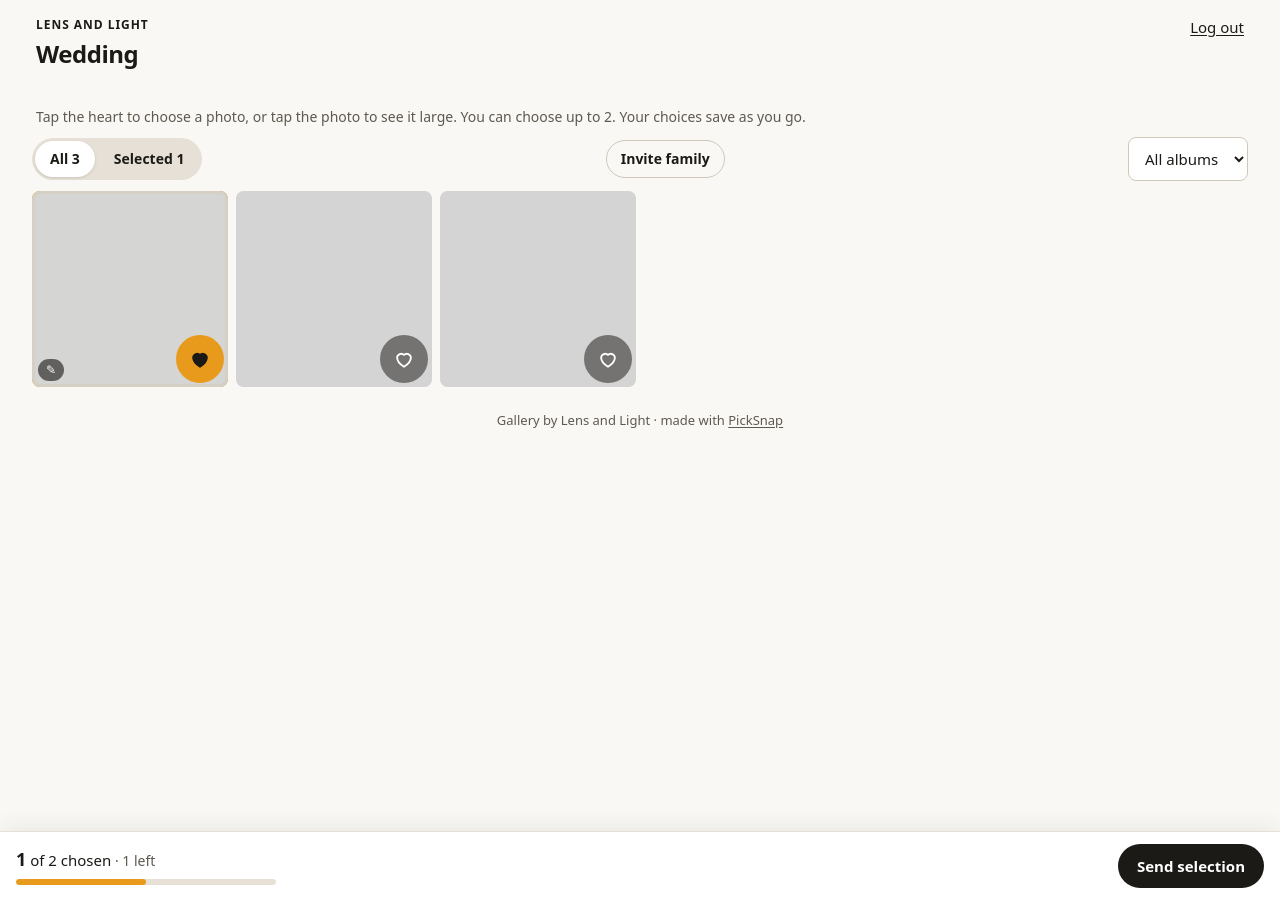
Test: choosing photos › choosing a photo saves it straight away and updates the count
Step 1. Click the 1st button named "Add to selection" → (404,359), box [380,335,428,383]
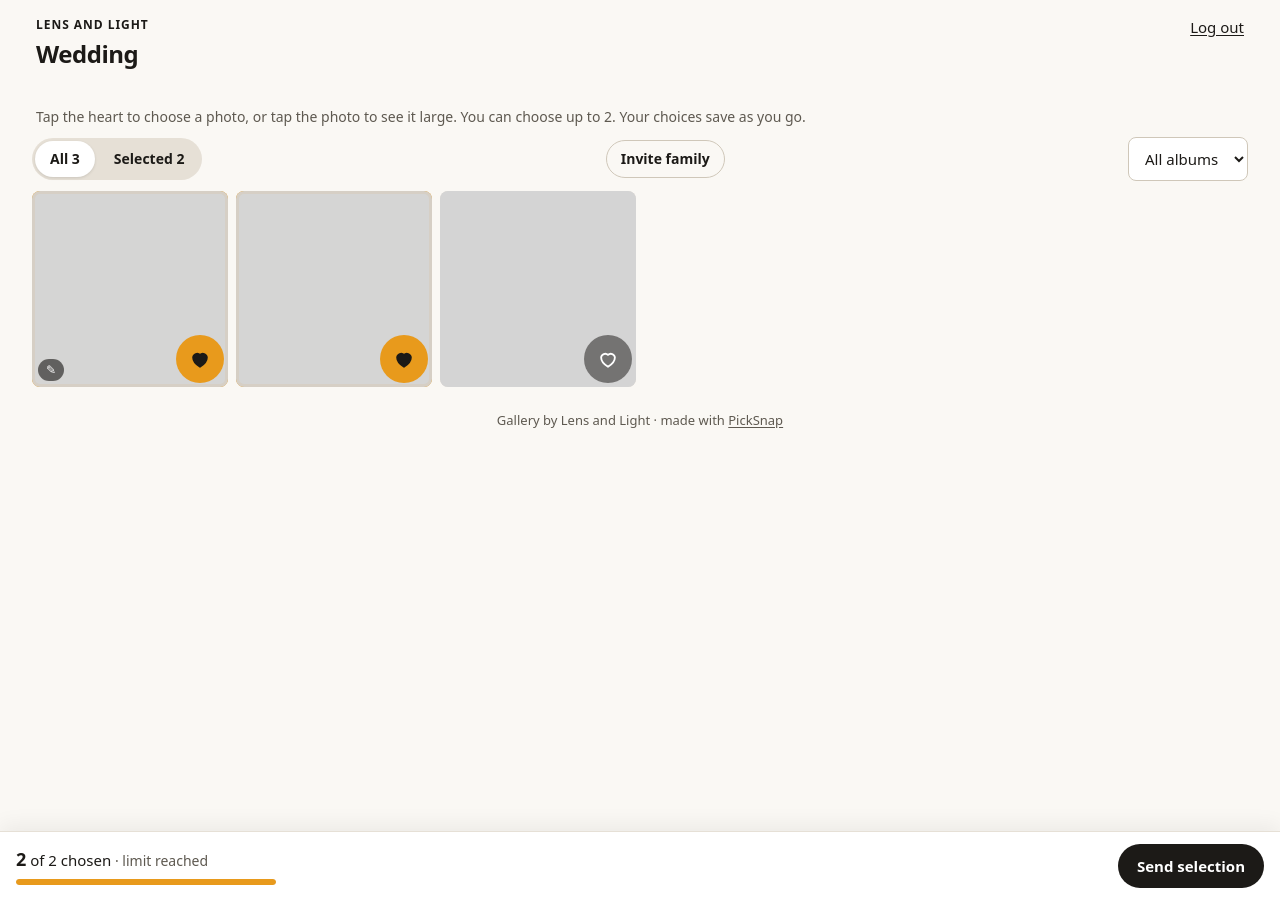
Expected: the element with class "submit-count" shows "2 of 2 chosen", [16,847,276,885]
Expected: the element with class "submit-count" shows "limit reached", [111,851,208,870]
